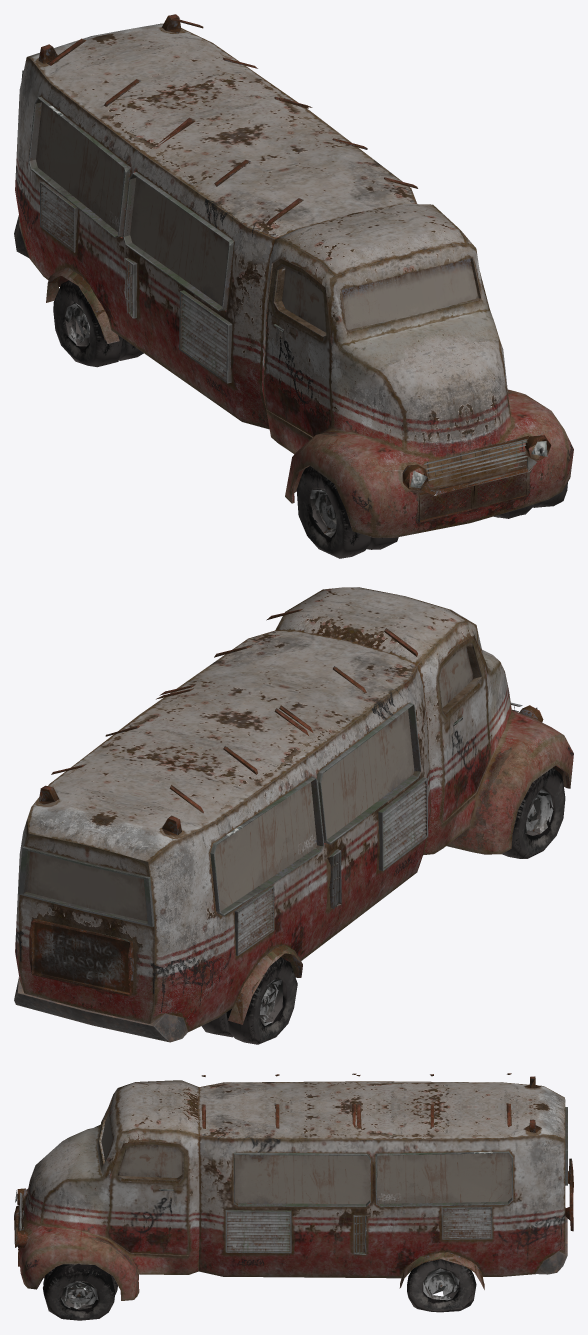
The model's file is SM_Van.fbx.
The picture shows the model from 3 angles, top to bottom: view 1: azimuth 30°, elevation 25°; view 2: azimuth 150°, elevation 25°; view 3: azimuth 270°, elevation 25°; orthographic projection. The views are drawn at different scales.
Visible parts, largest first — view 1: SM_Van_LOD0; view 2: SM_Van_LOD0; view 3: SM_Van_LOD0.
Boxes of the visible parts, <box> form: SM_Van_LOD0: <box>14,14,573,558</box>; SM_Van_LOD0: <box>14,587,573,1044</box>; SM_Van_LOD0: <box>14,1073,573,1320</box>.
Size of the model in its own units: 237 by 702 by 268.
Materials: 2 (2 with a texture image).
